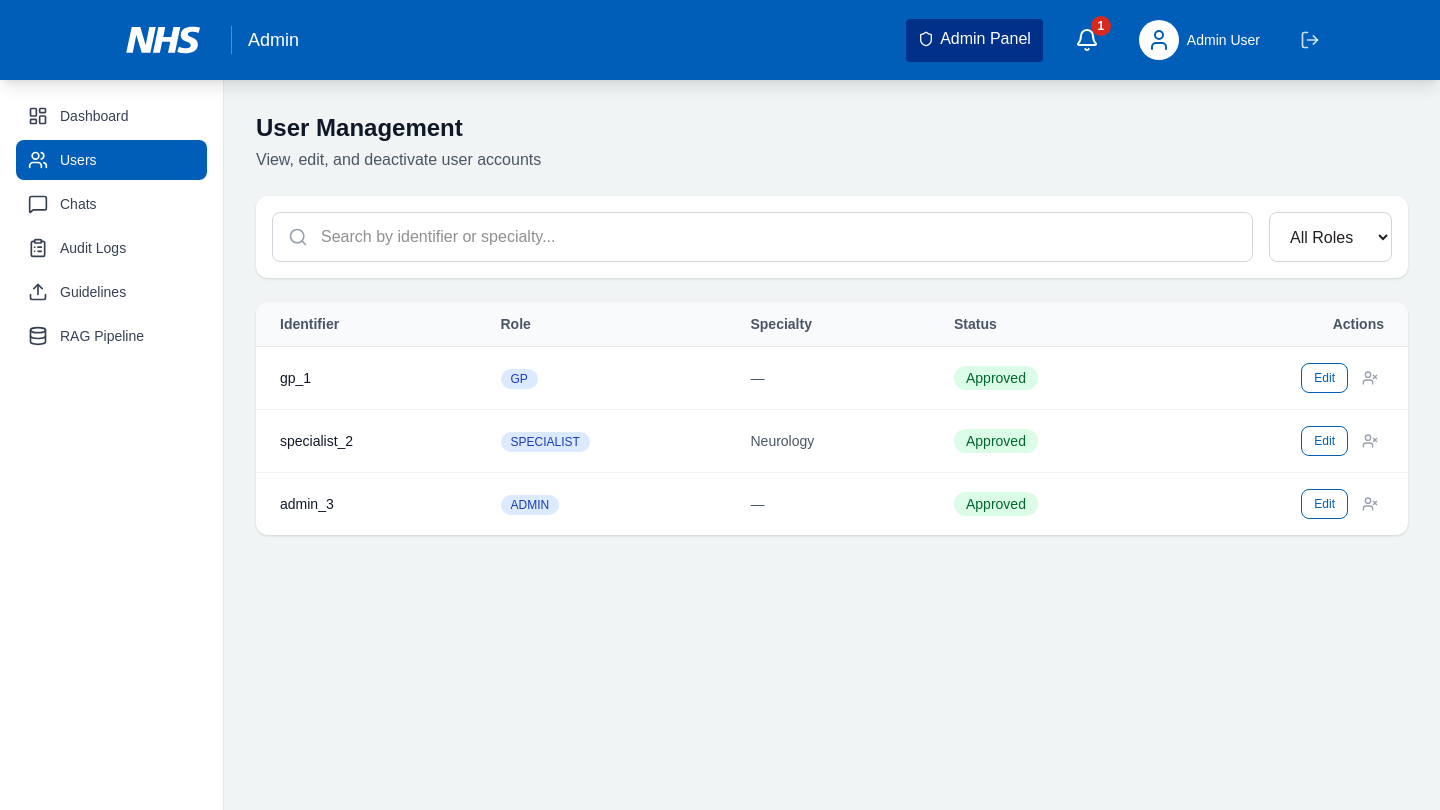
Test case: AdminUsersPage › opens edit modal when Edit button is clicked
The image size is (1440, 810).
expect the text "gp_1" is shown: met, box [256,346,476,410]
Step 1. Click the button "Edit" in the row of "gp_1" → x=1325, y=378, box [1301,363,1348,393]
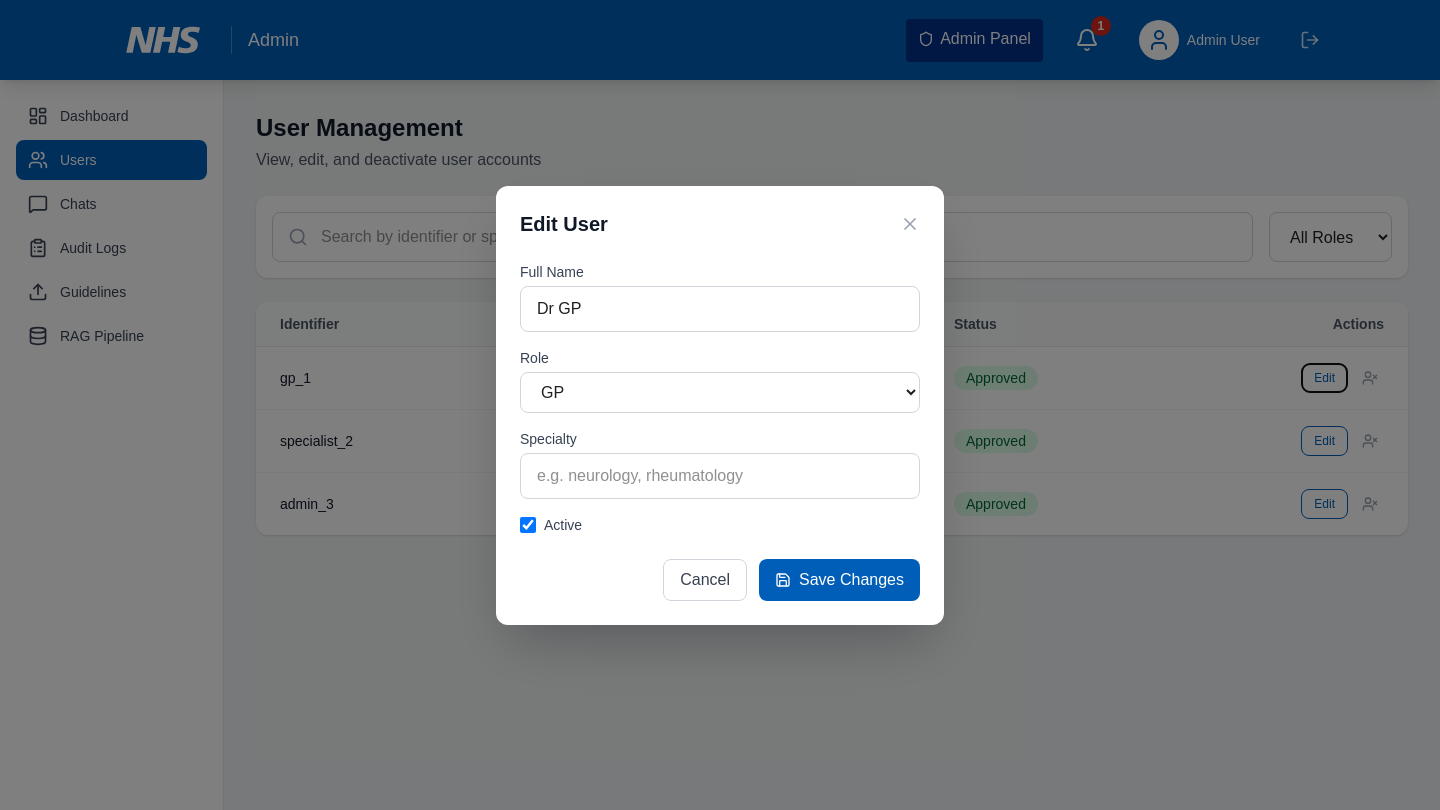
expect the heading "Edit User" is shown: met, box [520,210,608,238]
